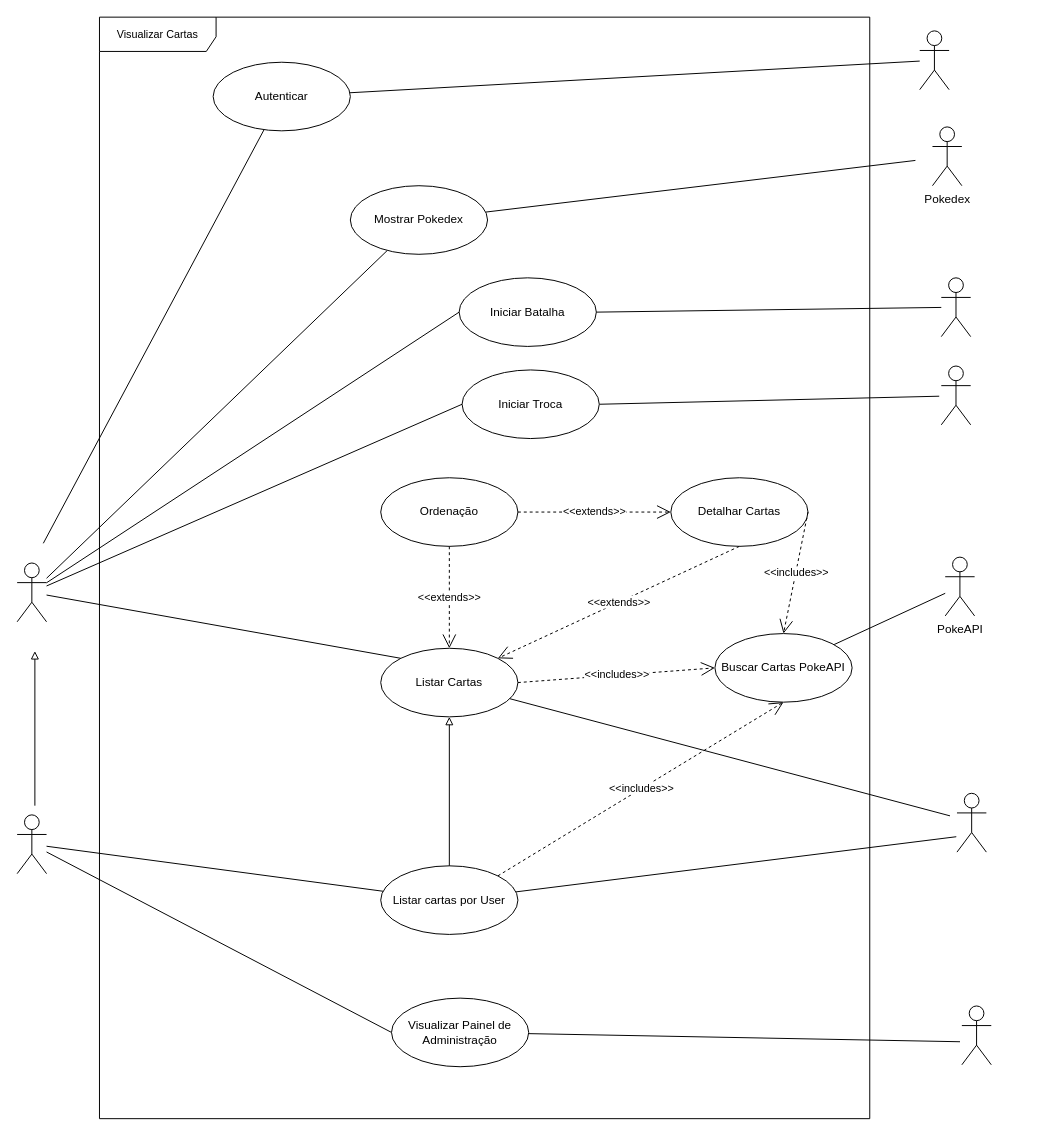
The diagram is 1056 pixels wide and 1136 high, and some of its shapes have lost their labels. Here are the shapes that lost their labels. From the top down, the centre of each, then its label:
At [934,60]: "Jogador".
At [955,307]: "Batalhas".
At [955,395]: "Trocas".
At [31,592]: "User".
At [971,822]: "BD".
At [31,844]: "ADM".
At [976,1035]: "Painel de Administração".
